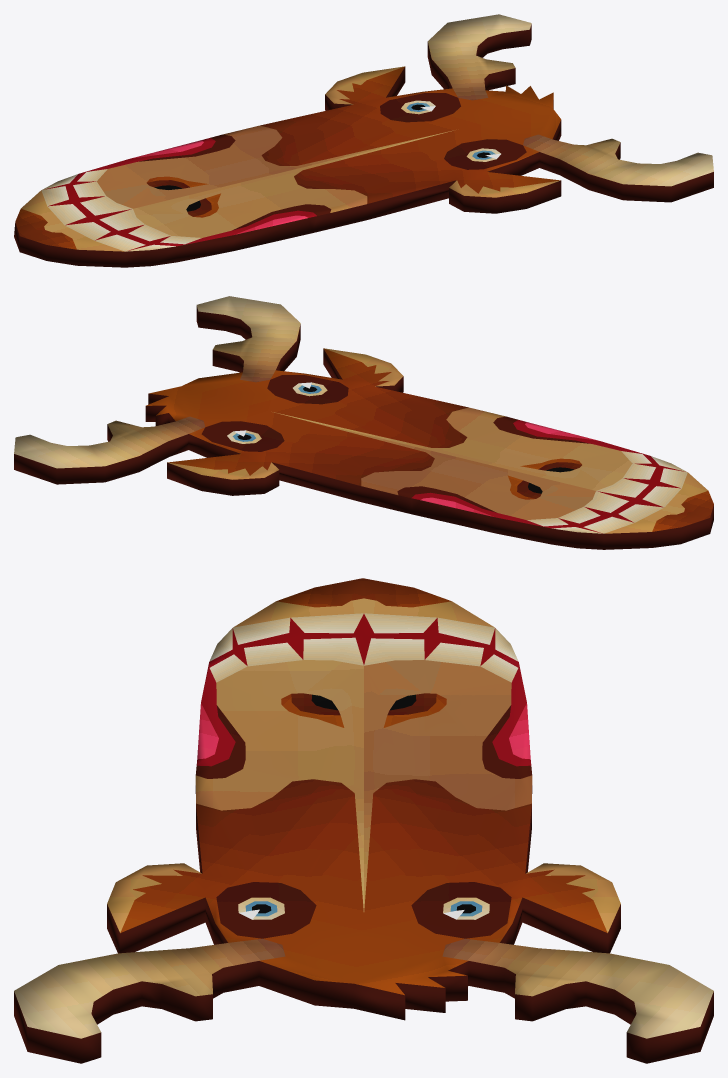
Rendered from Moose.glb.
3 renders of one model, top to bottom at view 1: azimuth 30°, elevation 25°; view 2: azimuth 150°, elevation 25°; view 3: azimuth 270°, elevation 25°, orthographic. The views are drawn at different scales.
Parts seen in each view (by area): view 1: Moose; view 2: Moose; view 3: Moose.
Part boxes in pixels (x1,y1,x2,y2): Moose: (14, 14, 713, 267); Moose: (14, 296, 713, 549); Moose: (14, 578, 713, 1063).
Size of the model in its own units: 9.17 by 0.2778 by 5.89.
Materials: 1 (1 with a texture image).
